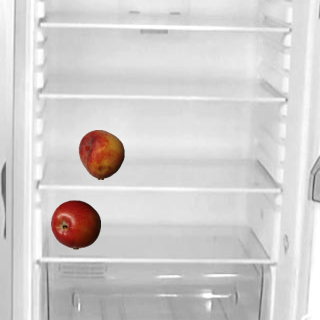Apple Braeburn: (50, 199, 100, 249)
Peach: (76, 129, 126, 179)
